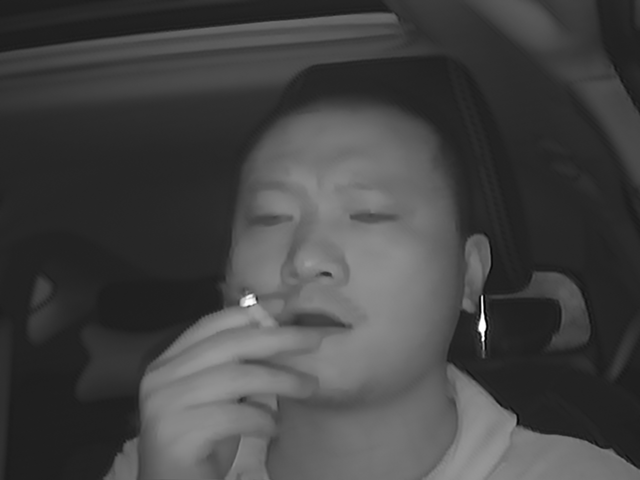hand: (149, 285, 312, 446)
